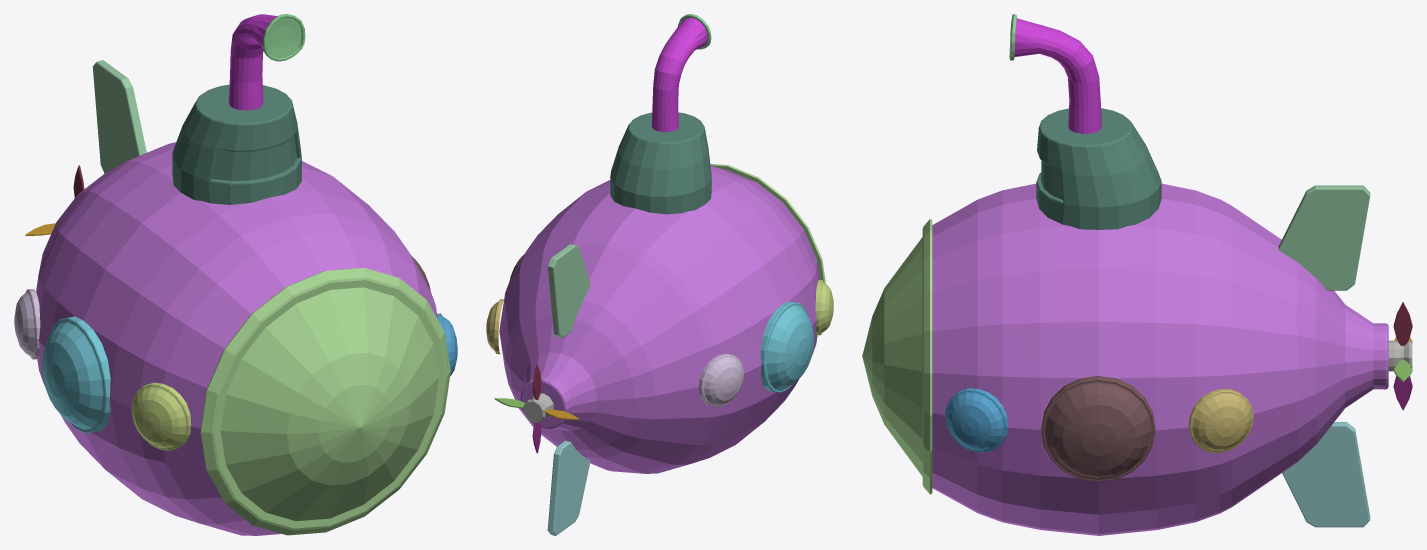
The picture shows the model from 3 angles, left to right: view 1: azimuth 30°, elevation 25°; view 2: azimuth 150°, elevation 25°; view 3: azimuth 270°, elevation 25°; orthographic projection. The views are drawn at different scales.
Visible parts, largest first — view 1: world; view 2: world; view 3: world.
Part boxes in pixels (bbox=[...]): world: bbox=[14, 14, 457, 535]; world: bbox=[486, 14, 833, 535]; world: bbox=[862, 14, 1412, 535].
Bounding box in the file's own units: 1.44 × 2 × 1.95.
